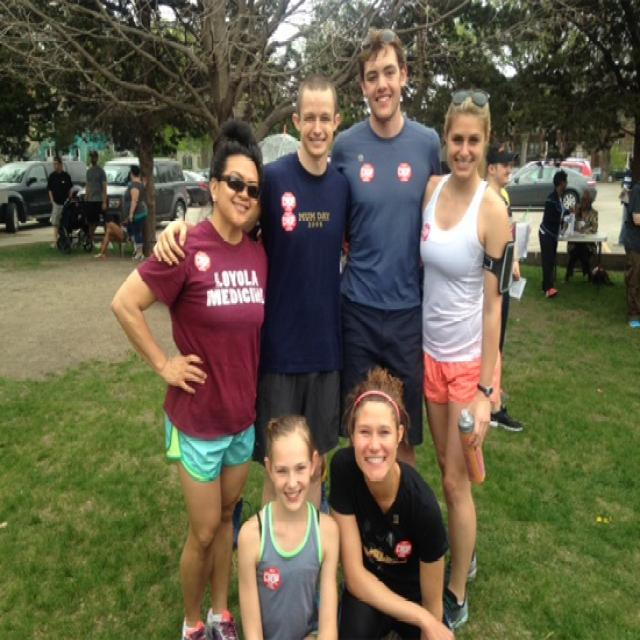body: (150, 69, 353, 531), (107, 112, 271, 638), (416, 86, 516, 637), (326, 23, 444, 474), (325, 360, 449, 638), (234, 410, 342, 638), (483, 138, 528, 436), (537, 168, 570, 300), (562, 184, 598, 284), (91, 197, 142, 258), (620, 171, 639, 329), (121, 162, 149, 263), (46, 154, 74, 251), (83, 149, 108, 251)
